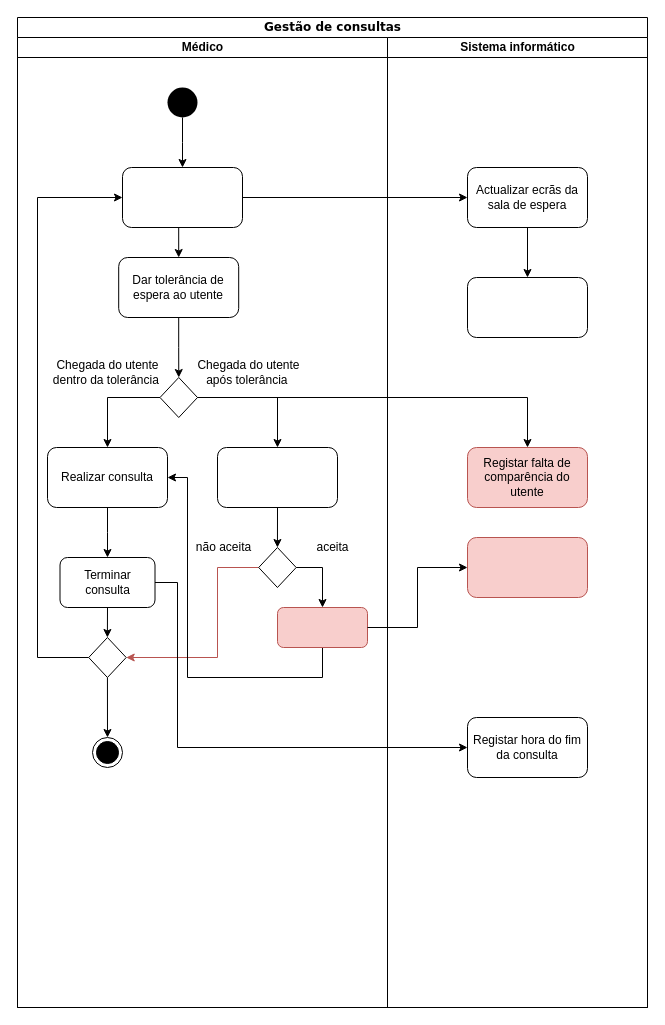
Image size: 665x1025. Some labels were removed from this diagram. The shapes that lost their labels are listed below. From the top down, each one's centre as x and y in pixels, then its label:
point 182,197: Chamar próximo utente
point 527,307: Registar hora de inicio da consulta
point 277,477: Decidir se aceita realizar consulta
point 527,567: Remover registo de falta de comparência do utente
point 322,627: Remover falta de comparência
